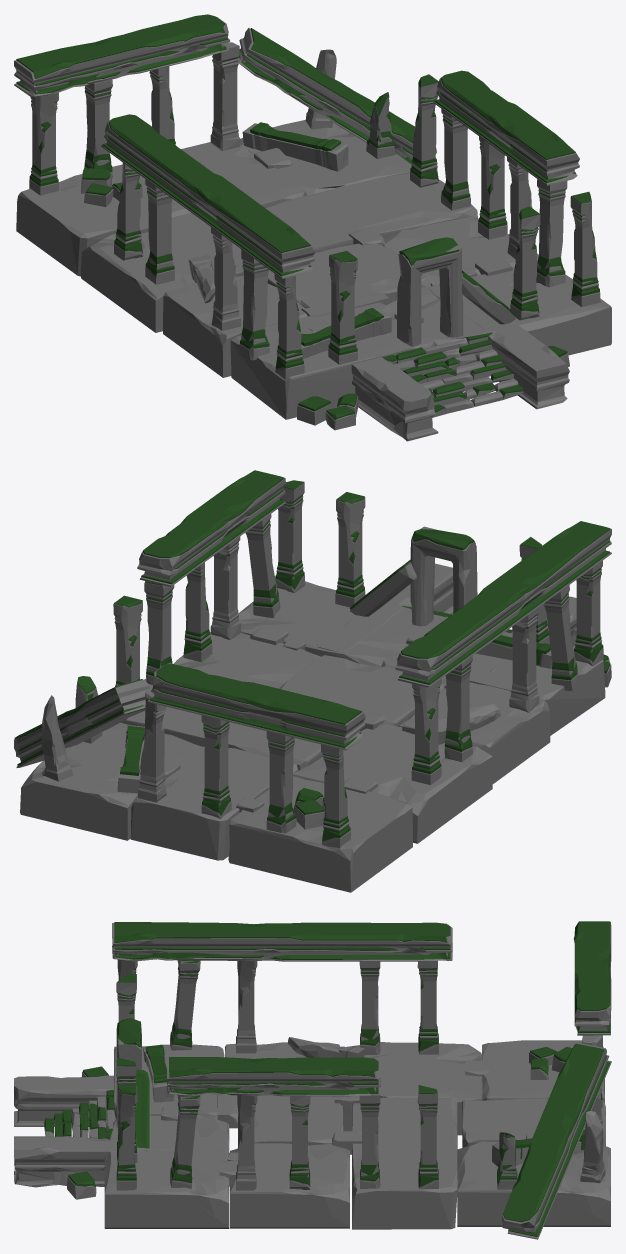
File: SM_ruins_temple_01.fbx
The picture shows the model from 3 angles, top to bottom: view 1: azimuth 30°, elevation 25°; view 2: azimuth 150°, elevation 25°; view 3: azimuth 270°, elevation 25°; orthographic projection. The views are drawn at different scales.
Visible parts, largest first — view 1: Object074; view 2: Object074; view 3: Object074.
Part boxes in pixels (x1,y1,x2,y2): Object074: (14, 14, 611, 441); Object074: (14, 470, 611, 892); Object074: (14, 921, 611, 1239).
Size of the model in its own units: 714 by 311 by 1049.
